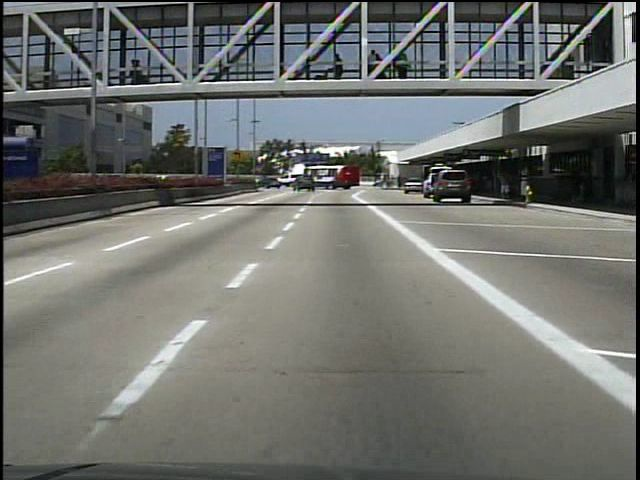person: (130, 56, 152, 87), (328, 50, 349, 82), (497, 166, 516, 201)
